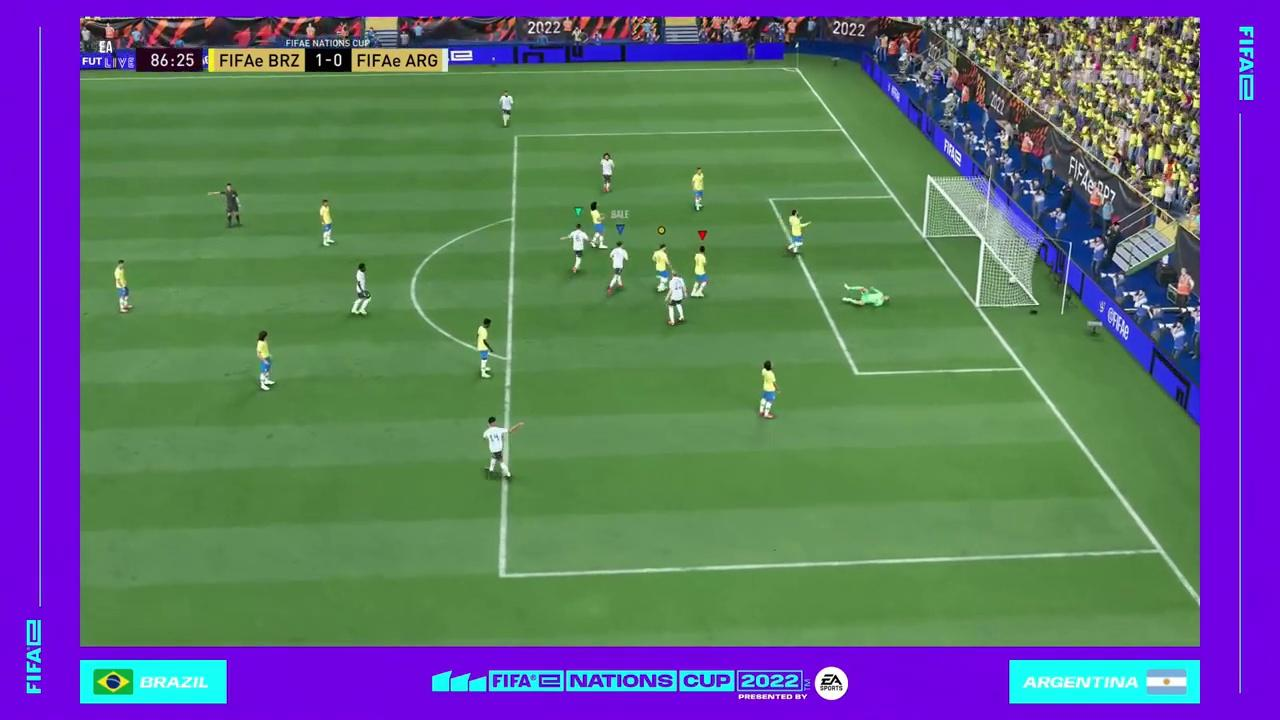scoreboard: (209, 48, 448, 74)
timestamp: (133, 50, 205, 76)
